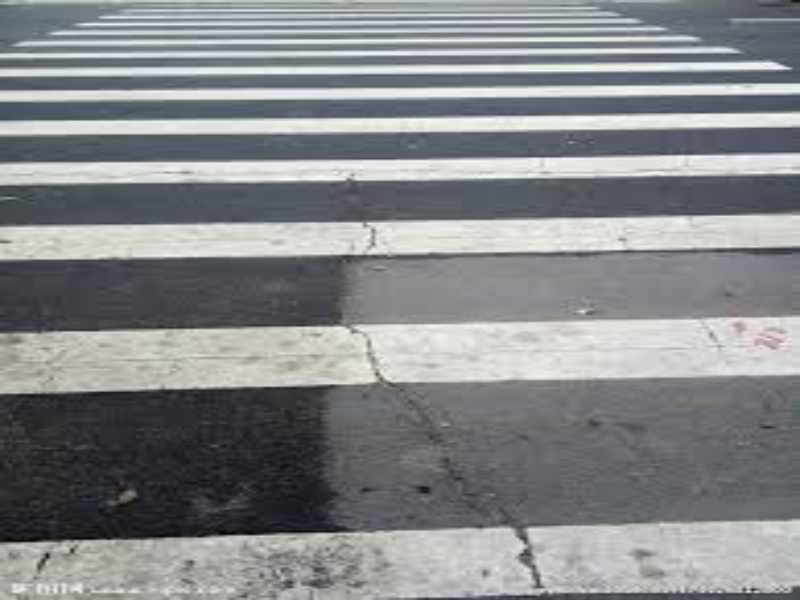zebra cross: (1, 2, 799, 597)
